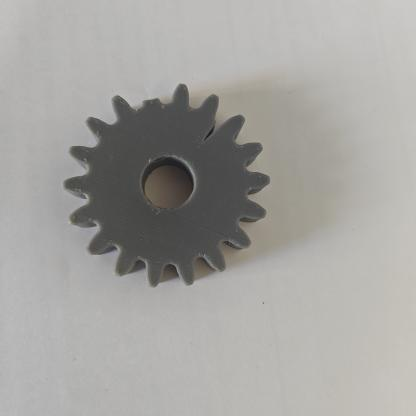defect: (200, 96, 268, 161), (117, 72, 192, 128)
gear: (42, 63, 302, 312)
